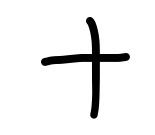plus: (42, 17, 128, 119)
